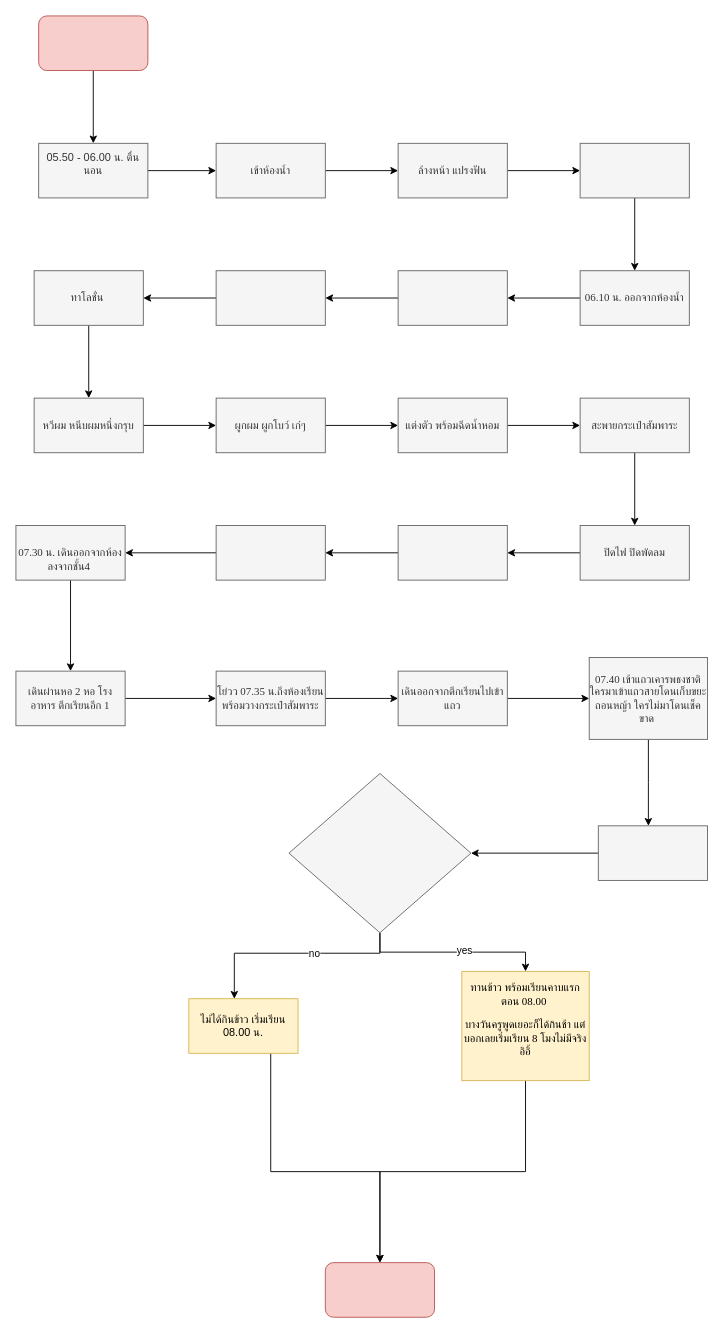
Some shapes in this 723 by 1333 pixel diagram are drawn without their labels. Here are the shapes that lost their labels. From the top down, the centre of each, then its label:
At (x=93, y=43): "เริ่มต้น".
At (x=634, y=170): "อาบน้ำ ถูสบู่".
At (x=270, y=297): "เข้าห้องตัวเอง เช็ดตัว แต่งหน้านิสหน่อย แบ๊วๆไปเรียน".
At (x=452, y=297): "เดินไปปลุกเพื่อนให้ตื่น".
At (x=270, y=552): "สวมรองเท้า".
At (x=452, y=552): "ออกจากห้องนอน".
At (x=379, y=853): "ซื้อข้าวเช้าไหม".
At (x=652, y=852): "07.50 เข้าแถวเสร็จ เดินกลับตึกเรียน".
At (x=379, y=1289): "สิ้นสุด".
